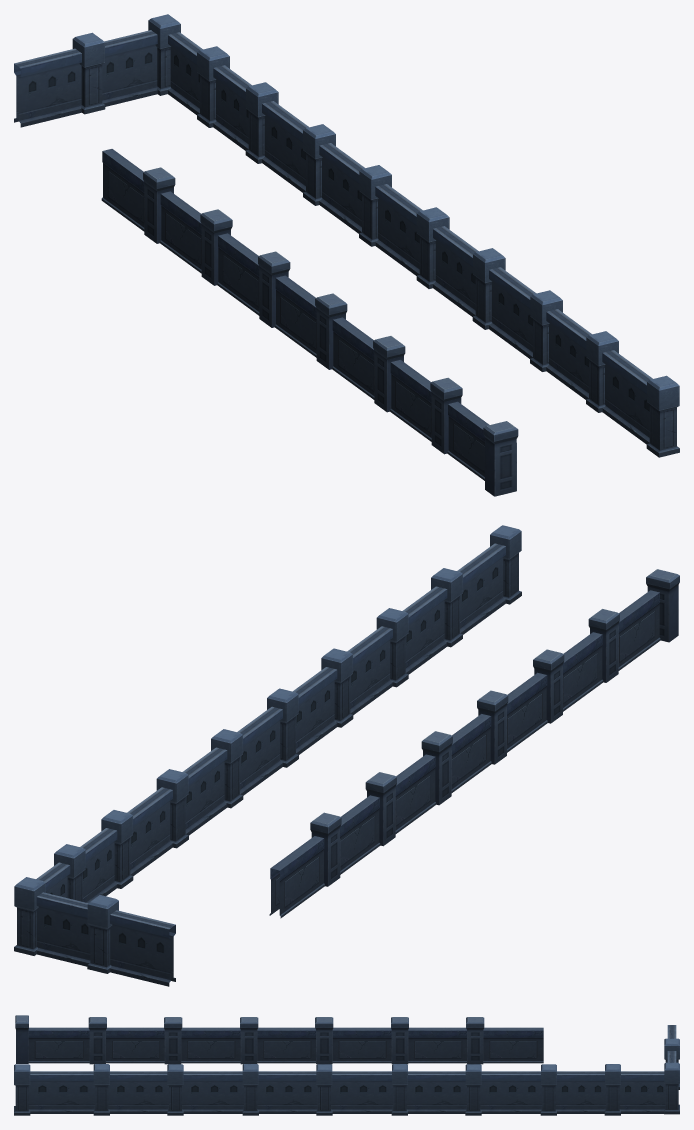
File: Area_07_3.fbx
3 views of the same model, one above another, from view 1: azimuth 30°, elevation 25°; view 2: azimuth 150°, elevation 25°; view 3: azimuth 270°, elevation 25° (orthographic). The views are drawn at different scales.
Visible parts, largest first — view 1: Area_07_3; view 2: Area_07_3; view 3: Area_07_3.
Part boxes in pixels (x1,y1,x2,y2): Area_07_3: [14, 14, 679, 496]; Area_07_3: [14, 525, 679, 986]; Area_07_3: [14, 1015, 679, 1115].
Size of the model in its own units: 1946 by 701 by 9239.
